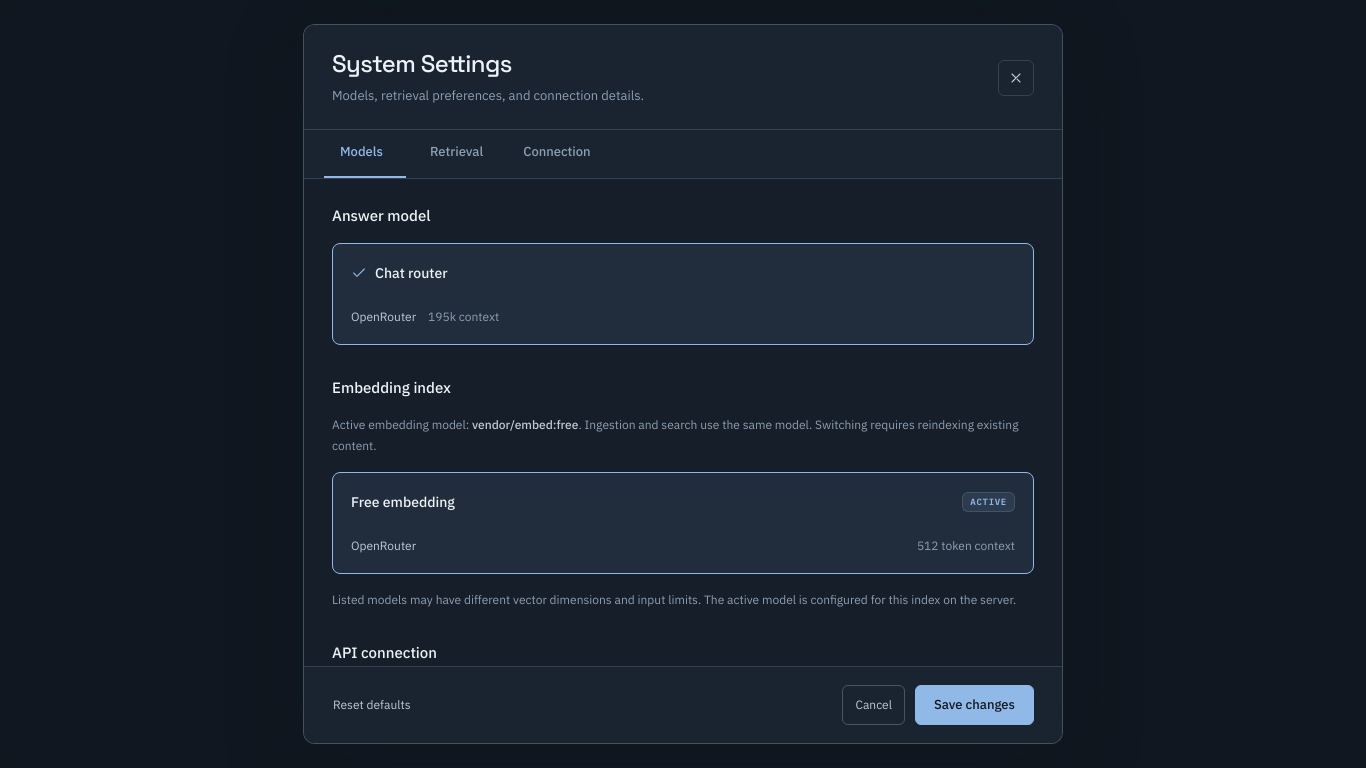
Test case: admin demo-content maintenance › reports a failed retirement without claiming that sample articles were removed
Click the button "Retrieval": (457, 154) [414, 130, 499, 178]
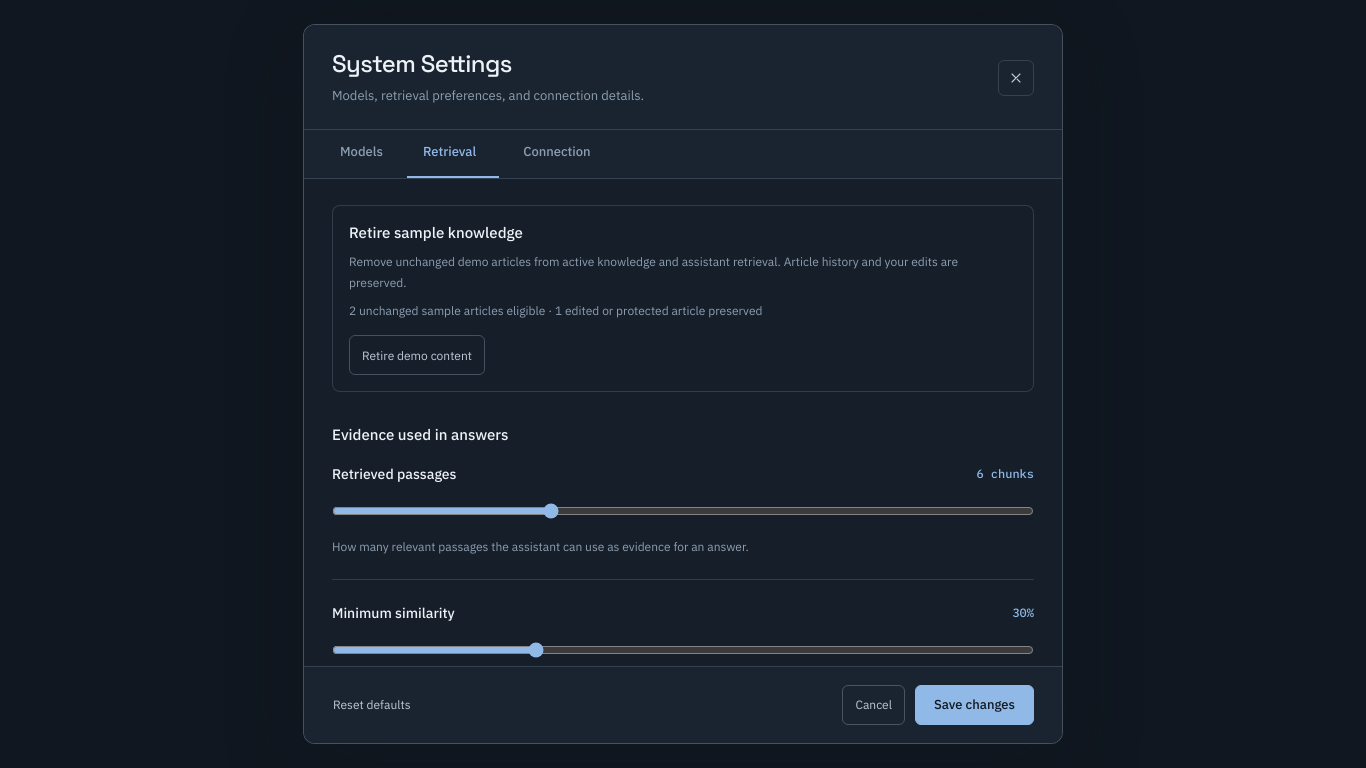
Click the button "Retire demo content": (417, 356) [349, 336, 485, 376]
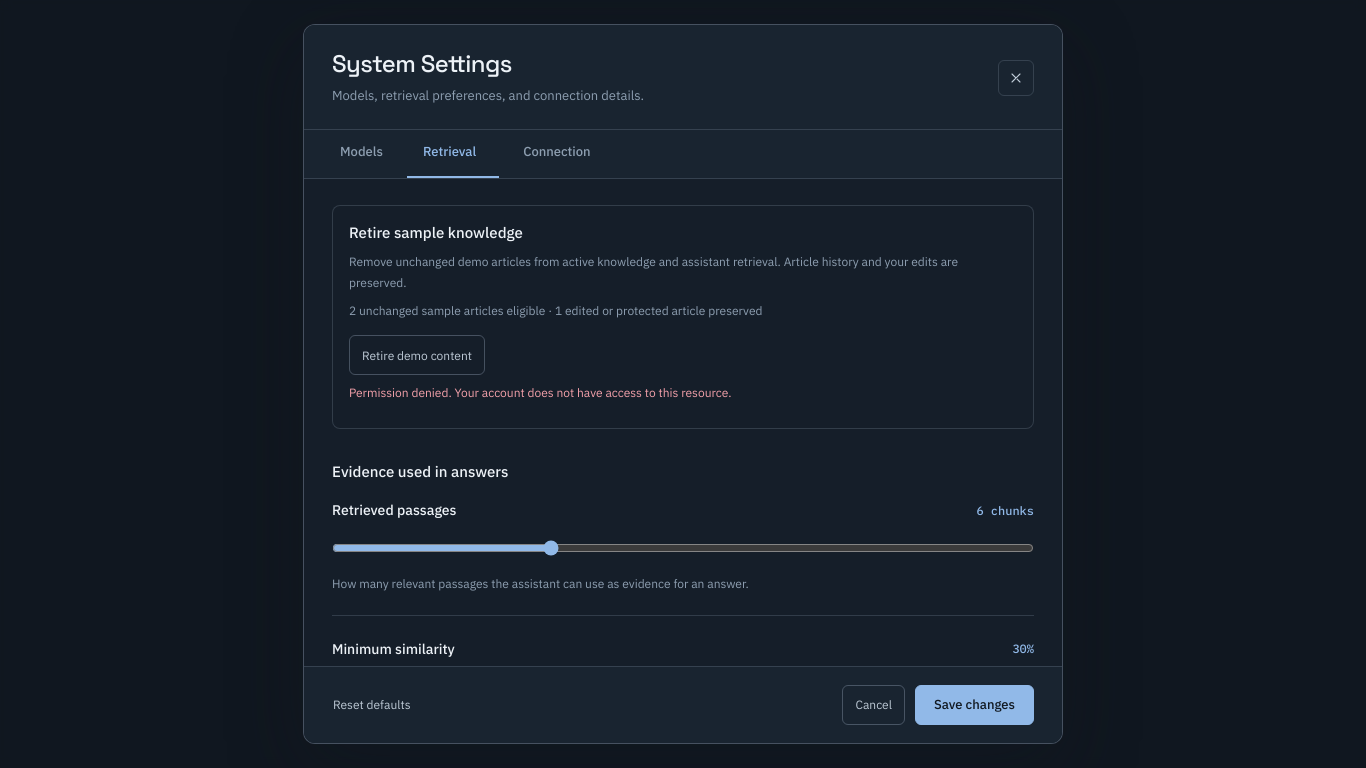
Check: the button "Retire demo content" is enabled, box [349, 336, 485, 376]
Check: the message shows "Permission denied", box [349, 386, 731, 400]
